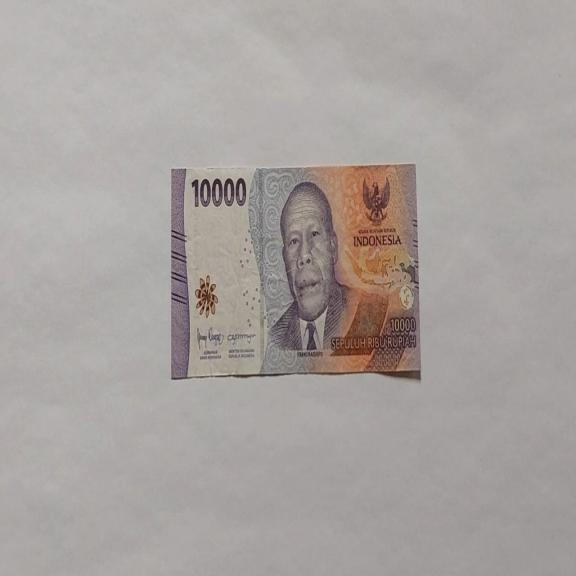Kertas: (170, 162, 421, 380)
